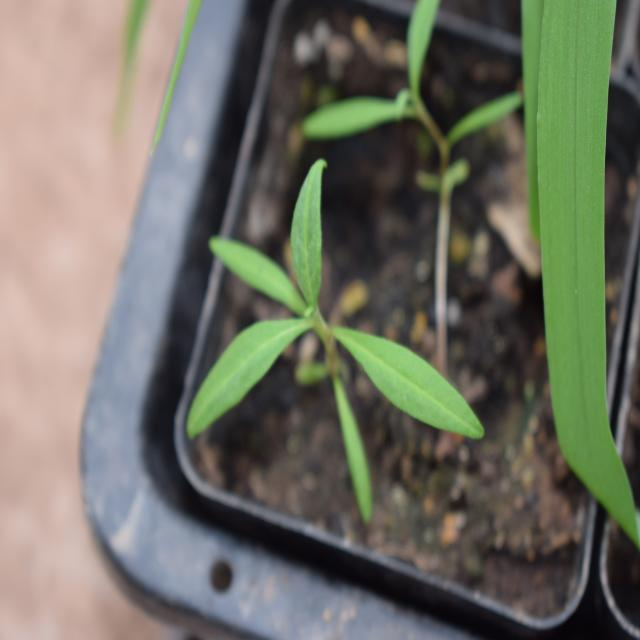white_smart_weed: (178, 153, 496, 514)
